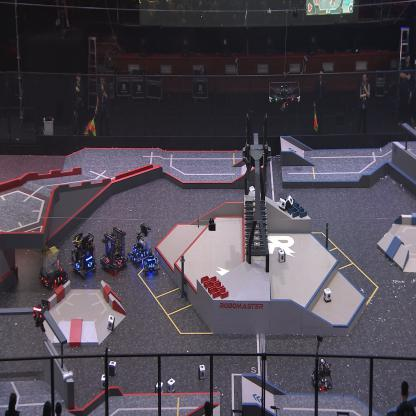car: (38, 243, 68, 290), (101, 226, 129, 274), (69, 232, 96, 280), (128, 221, 153, 265), (310, 358, 332, 390), (141, 247, 159, 275)
